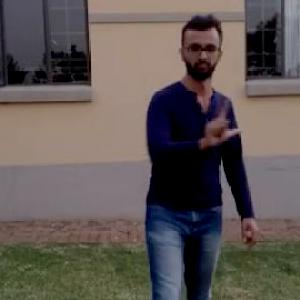land_hand: (196, 96, 244, 151)
